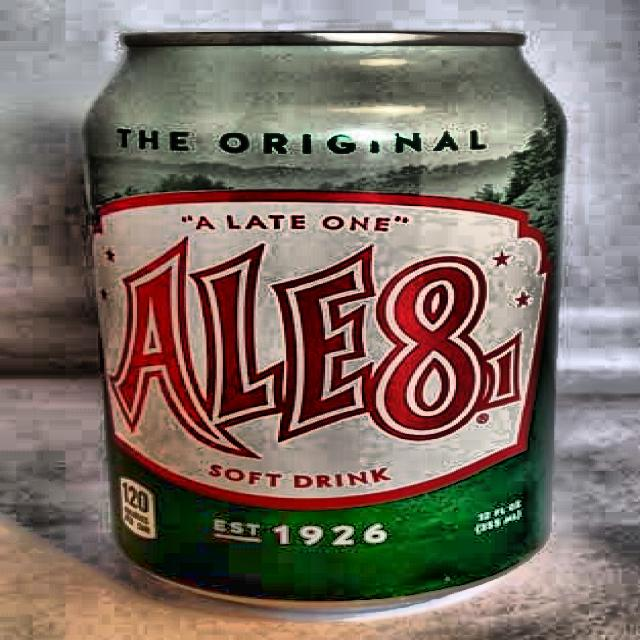Cans: (54, 16, 578, 618)
